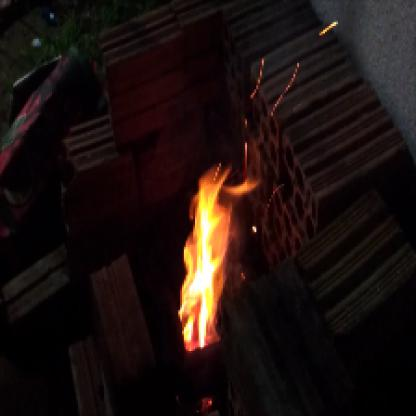Fire: (171, 152, 262, 355)
